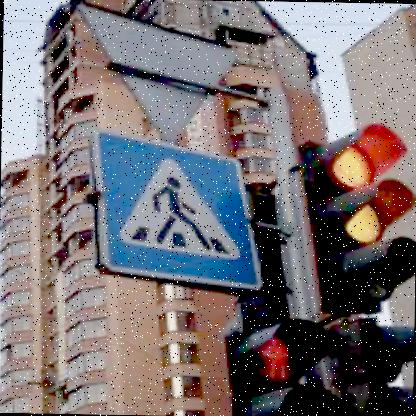crosswalk: (81, 124, 262, 290)
trafficlight: (292, 119, 415, 304), (223, 314, 331, 415), (335, 316, 413, 415)
